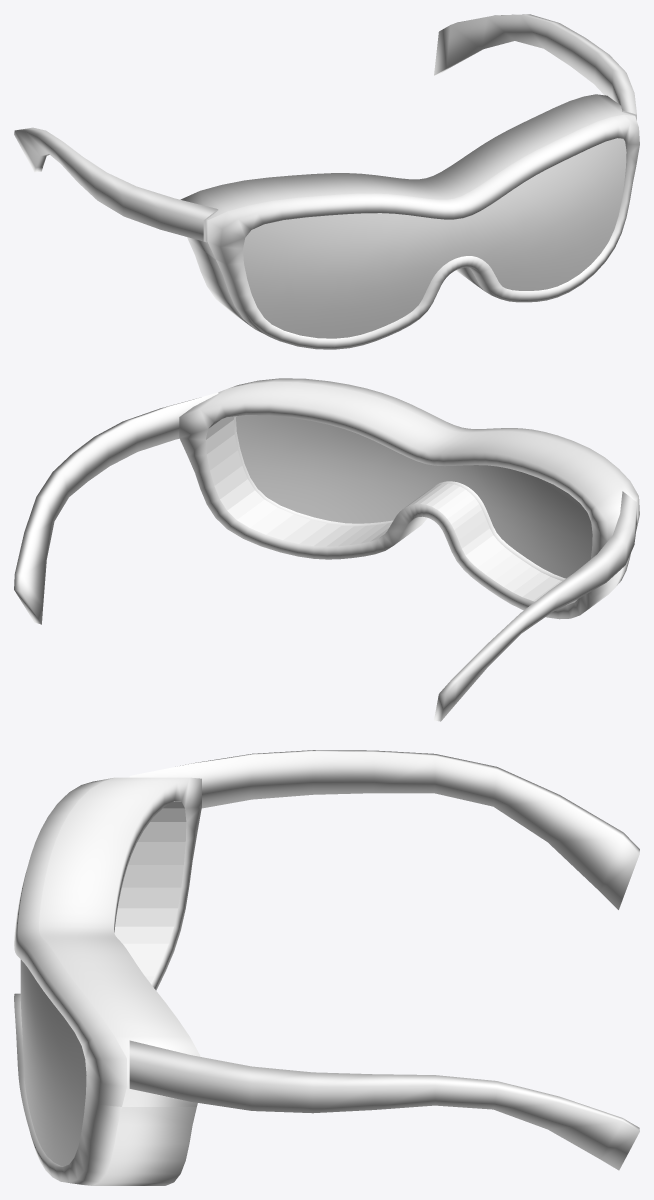
Rendered from M_Goggle.fbx.
3 views of the same model, one above another, from view 1: azimuth 30°, elevation 25°; view 2: azimuth 150°, elevation 25°; view 3: azimuth 270°, elevation 25° (orthographic). The views are drawn at different scales.
Parts seen in each view (by area): view 1: âSü[âOâï_mesh; view 2: âSü[âOâï_mesh; view 3: âSü[âOâï_mesh.
Part boxes in pixels (<box>): âSü[âOâï_mesh: <box>14,14,639,349</box>; âSü[âOâï_mesh: <box>14,378,639,721</box>; âSü[âOâï_mesh: <box>14,750,639,1185</box>.
Bounding box in the file's own units: 202 × 159 × 56.83.
1 material, 1 textured.
